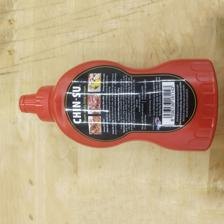Chinsu: (15, 56, 219, 156)
